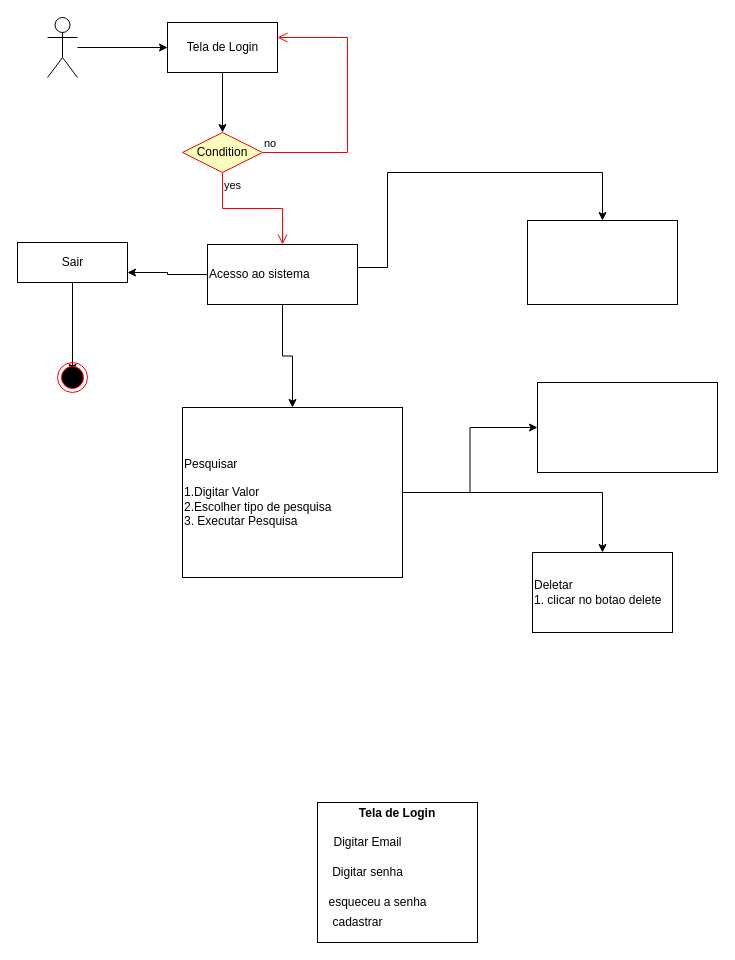
Image size: 735x960. Some labels were removed from this diagram. Here are the shapes that lost their labels. From the top down, the box of each, then its label:
(46, 16, 78, 78): Actor
(526, 220, 678, 304): Cadastrar 1. digitar dados 2. sistema de validar dados 3. clicar no botao salvar
(536, 382, 718, 472): Editar 1. alterar dados 2. sistema validar dados 3. clicar no botao editar
